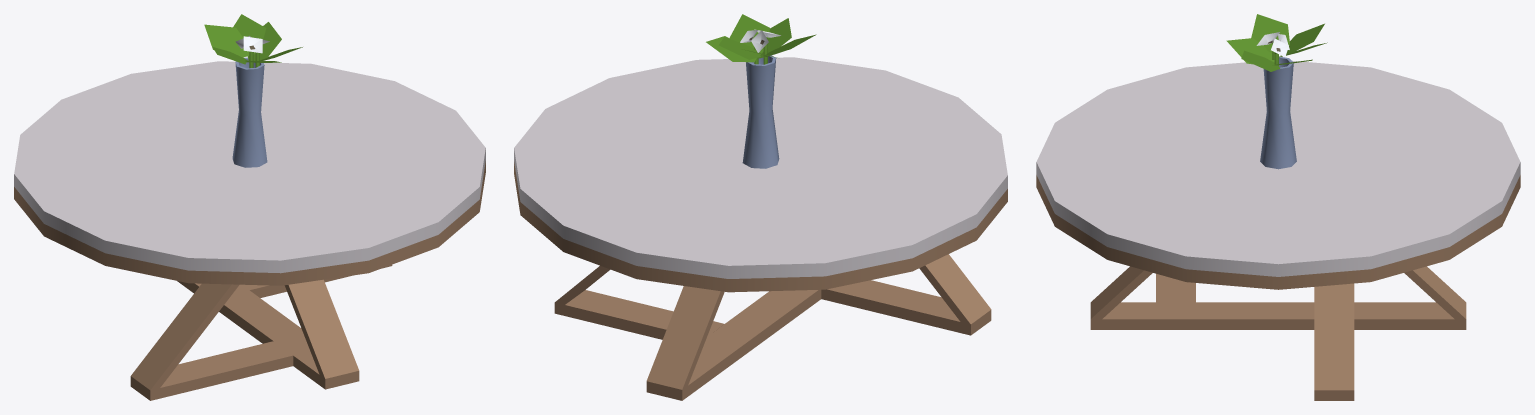
Rendered from CoffeeTable.fbx.
3 renders of one model, left to right at view 1: azimuth 30°, elevation 25°; view 2: azimuth 150°, elevation 25°; view 3: azimuth 270°, elevation 25°, orthographic. The views are drawn at different scales.
Parts seen in each view (by area): view 1: CoffeeTable, flower vase; view 2: CoffeeTable, flower vase; view 3: CoffeeTable, flower vase.
Boxes of the visible parts, box(x1,y1,x2,y2) form: CoffeeTable: box(14, 61, 485, 400); flower vase: box(204, 14, 302, 167); CoffeeTable: box(514, 57, 1007, 400); flower vase: box(706, 14, 816, 168); CoffeeTable: box(1036, 60, 1520, 400); flower vase: box(1226, 14, 1327, 169).
Size of the model in its own units: 1.65 by 1.08 by 1.65.
